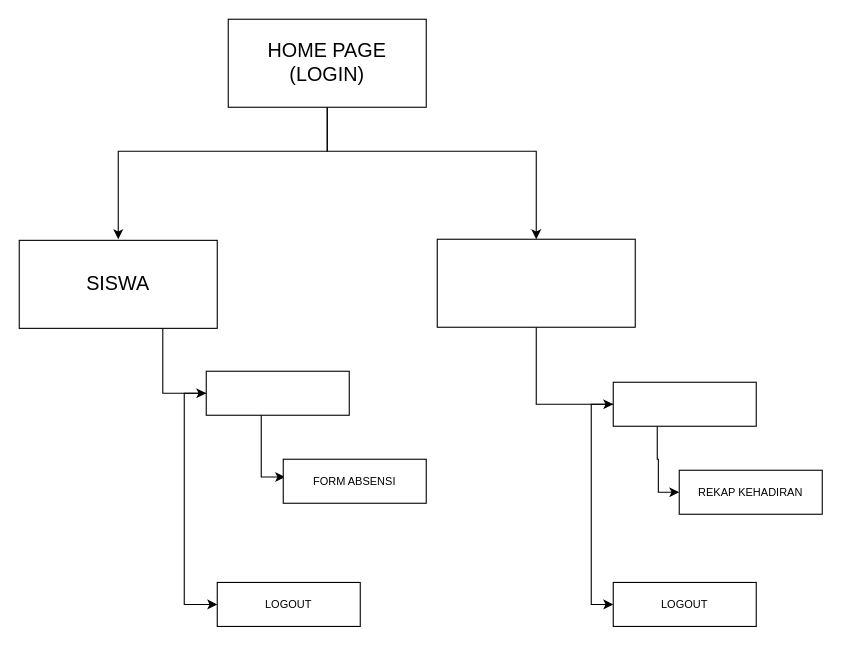
This 842x646 diagram has some shape labels left out. The shapes that lost their labels are listed below. From the top down, each one's box as (x1, y1, x2, y2) in pixels, then its label:
(436, 238, 635, 327): ADMIN
(205, 370, 349, 415): PROFILE SISWA
(612, 381, 756, 426): PROFILE ADMIN
